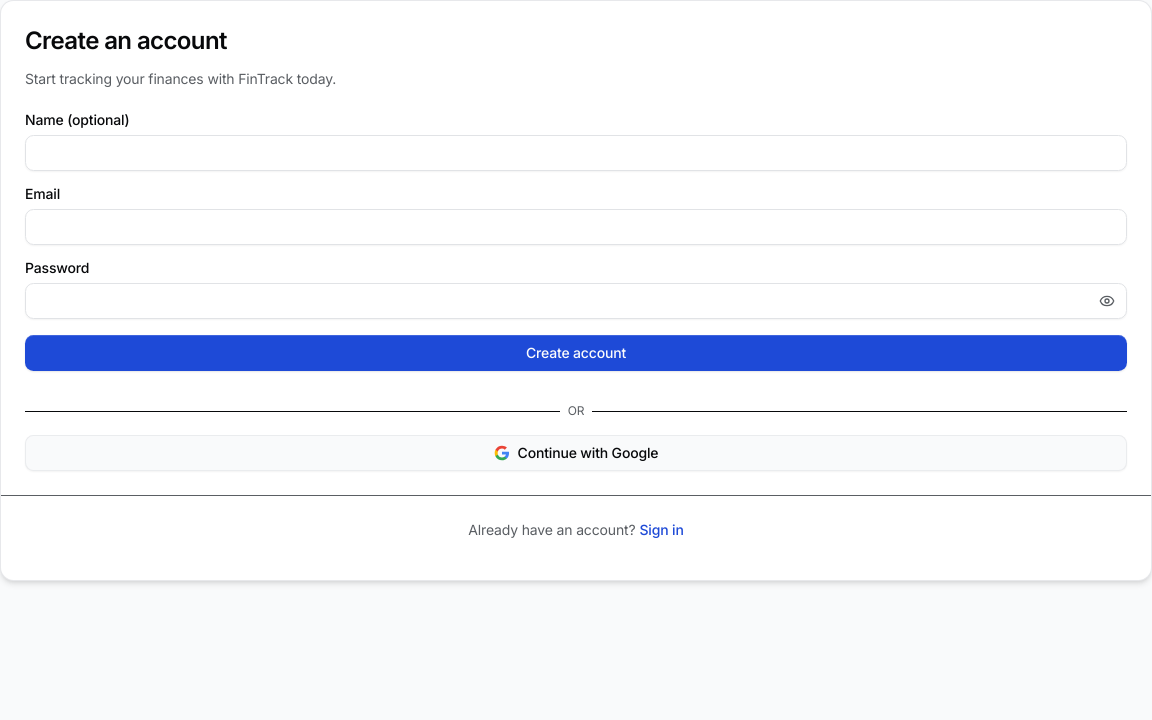
Test: Auth Forms › RegisterForm › displays error and preserves entered values when email is already in use
In the field labelled "Name (optional)": (576, 153) [25,135,1127,171], type "Bob"
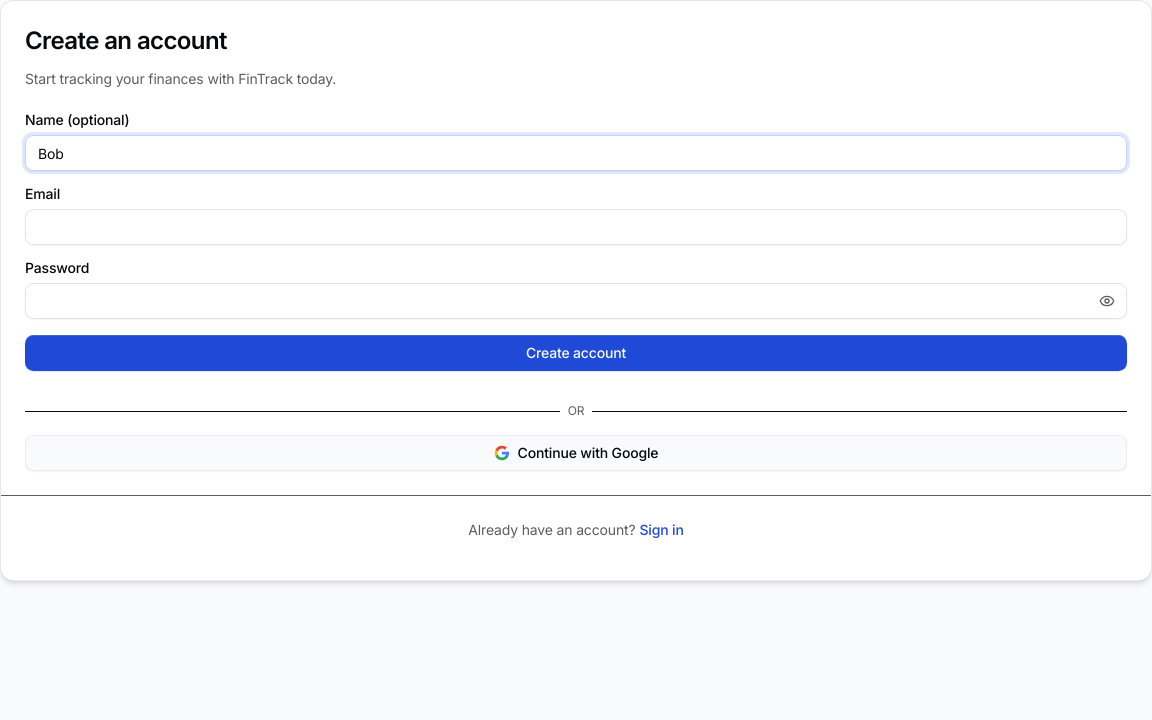
In the field labelled "Email": (576, 227) [25,209,1127,245], type "bob@example.com"
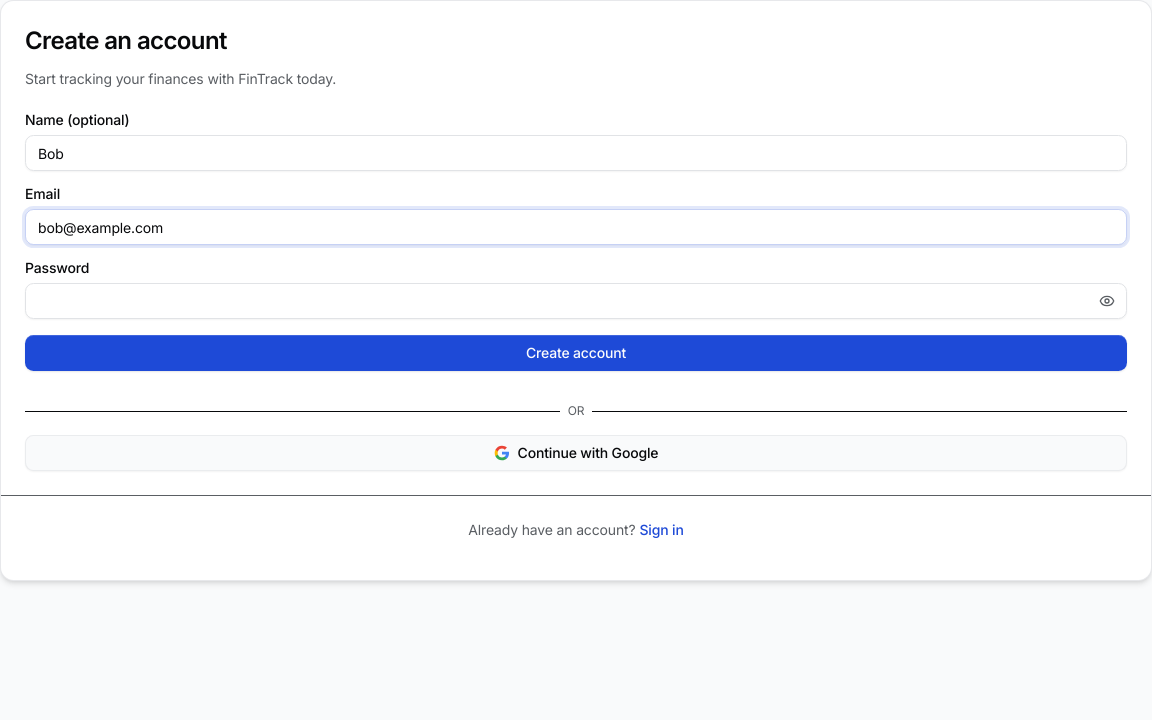
In the password field labelled "Password": (576, 301) [25,283,1127,319], type "password123"
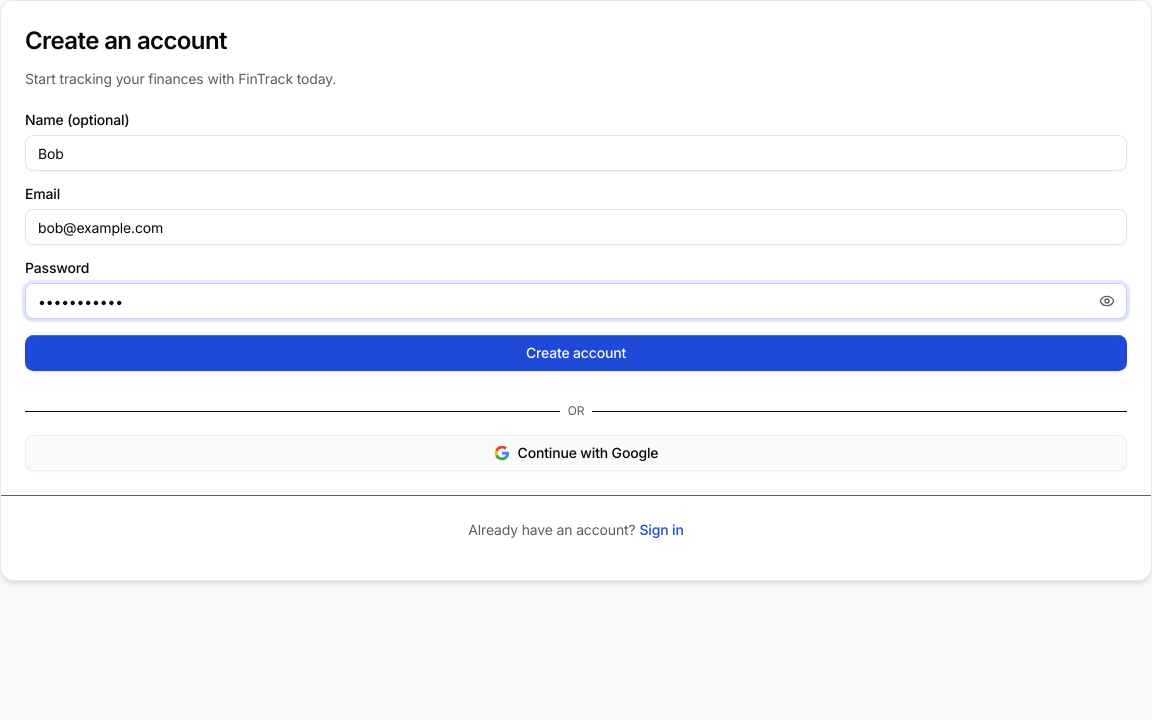
Click the button "Create account": (576, 353) [25,335,1127,371]
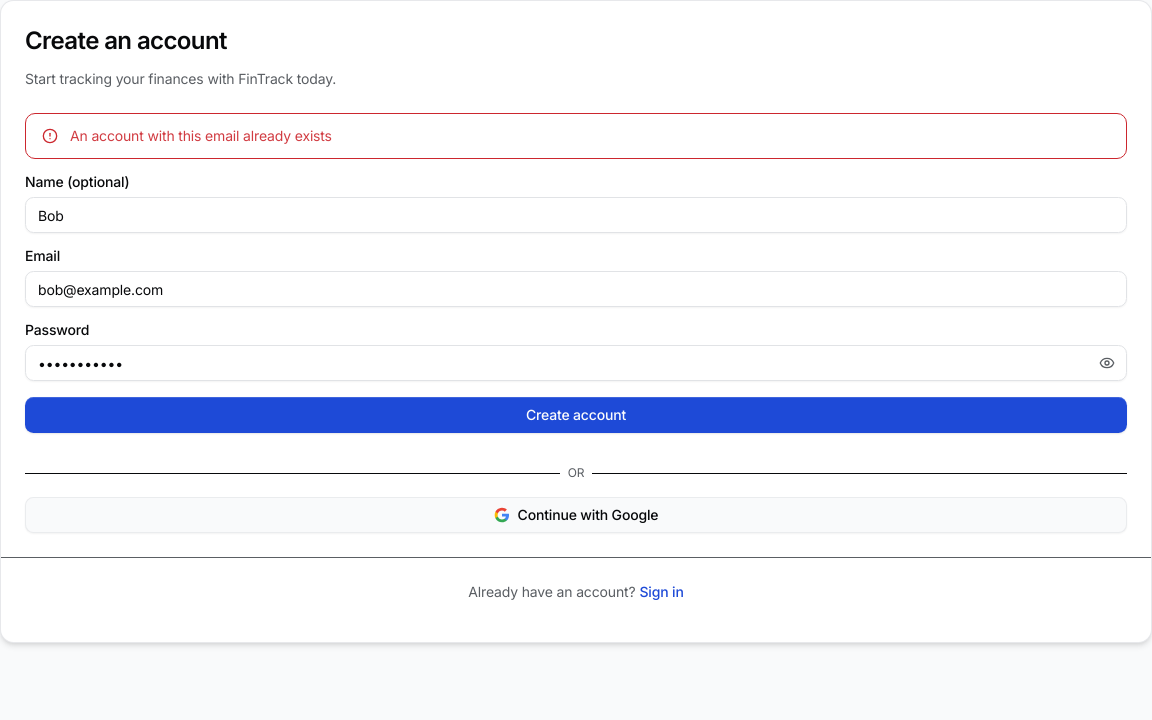
Check: the text "An account with this email already exists" is shown, box [70,127,332,144]
